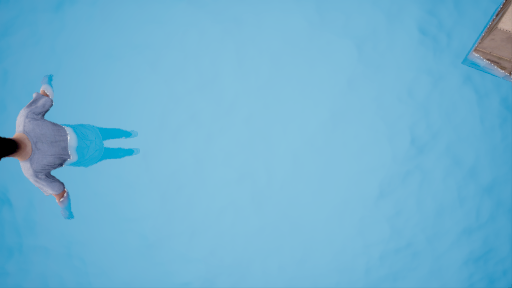person: (1, 76, 134, 218)
